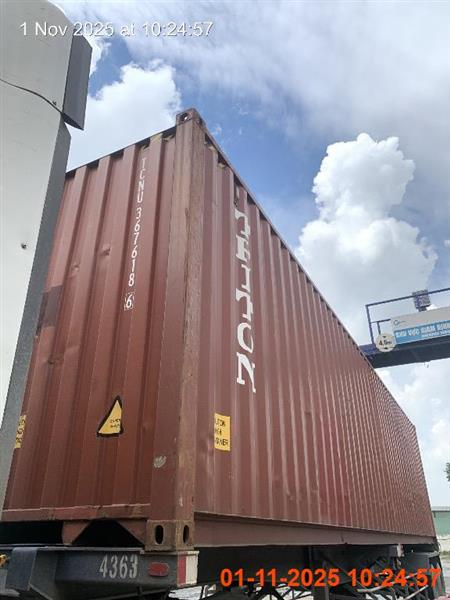scratch: (1, 108, 446, 598)
